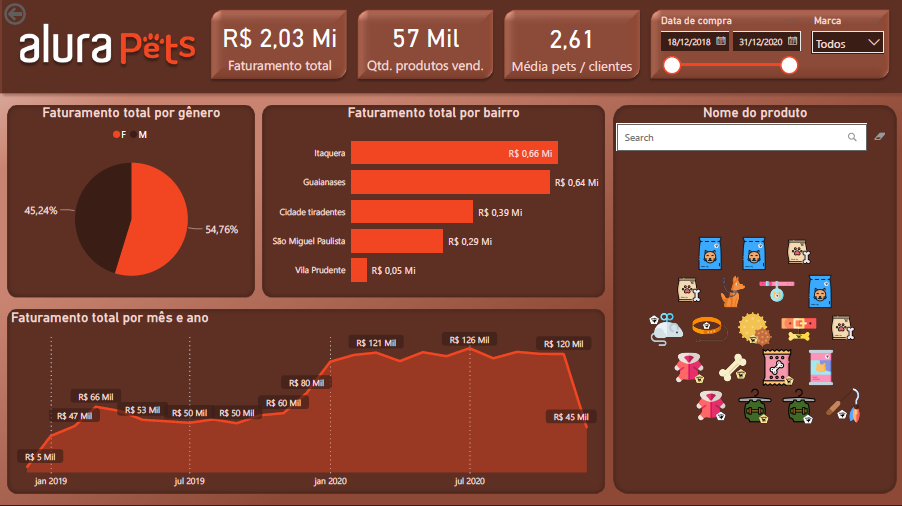

Layout of this report page (visuals, bound fields, positions):
{"tool":"powerbi","page":{"name":"Página 1","canvas":[1280,720],"ordinal":0},"visuals":[{"type":"card","fields":{"Values":["Vendas.Faturamento total"]},"box":[300.3,16.7,191.1,92.5],"z":0},{"type":"card","fields":{"Values":["Avg(Clientes.Pets)"]},"box":[715,18,192,93],"z":1000},{"type":"card","fields":{"Values":["Sum(Vendas.Quantidade)"]},"box":[505,16.7,194.1,92.5],"z":2000},{"type":"pieChart","title":"Faturamento total por gênero","fields":{"Category":["Clientes.Gênero"],"Y":["Vendas.Faturamento total"]},"box":[9,149,352,274],"z":3000},{"type":"clusteredBarChart","title":"Faturamento total por bairro","fields":{"Category":["Clientes.Bairro"],"Y":["Vendas.Faturamento total"]},"box":[372,149,485,274],"z":4000},{"type":"areaChart","title":"Faturamento total por mês e ano","fields":{"Category":["Vendas.Data de compra.Variation.Hierarquia de datas.Ano","Vendas.Data de compra.Variation.Hierarquia de datas.Trimestre","Vendas.Data de compra.Variation.Hierarquia de datas.Mês","Vendas.Data de compra.Variation.Hierarquia de datas.Dia"],"Y":["Vendas.Faturamento total"]},"box":[9,439,848,262],"z":5000},{"type":"actionButton","box":[0,0,100,40],"z":6000},{"type":"ImageGrid_FC5183B9_926C_45E0_B5F7_0CE9EAF1DA9B","fields":{"ImageURLHQ":["Produtos.Url img"]},"box":[869,236,402,462],"z":7000},{"type":"textFilter25A4896A83E0487089E2B90C9AE57C8A","title":"Nome do produto","fields":{"field":["Produtos.Nome produto"]},"box":[869,149,402,87],"z":8000},{"type":"slicer","fields":{"Values":["Produtos.Marca"]},"box":[1140,16,122,95],"z":9000},{"type":"slicer","fields":{"Values":["Vendas.Data de compra"]},"box":[924,16,216,157],"z":10000}]}

Visuals, with their boxes in screenshot pixels (x1, y1, x2, y2), scaled from the page's 1280x720 canvas onto the 902x506 screenshot:
card - Vendas.Faturamento total: bbox=(212, 12, 346, 77)
card - Avg(Clientes.Pets): bbox=(504, 13, 639, 78)
card - Sum(Vendas.Quantidade): bbox=(356, 12, 493, 77)
"Faturamento total por gênero" pieChart: bbox=(6, 105, 254, 297)
"Faturamento total por bairro" clusteredBarChart: bbox=(262, 105, 604, 297)
"Faturamento total por mês e ano" areaChart: bbox=(6, 309, 604, 493)
actionButton: bbox=(0, 0, 70, 28)
ImageGrid_FC5183B9_926C_45E0_B5F7_0CE9EAF1DA9B - Produtos.Url img: bbox=(612, 166, 896, 491)
"Nome do produto" textFilter25A4896A83E0487089E2B90C9AE57C8A: bbox=(612, 105, 896, 166)
slicer - Produtos.Marca: bbox=(803, 11, 889, 78)
slicer - Vendas.Data de compra: bbox=(651, 11, 803, 122)
